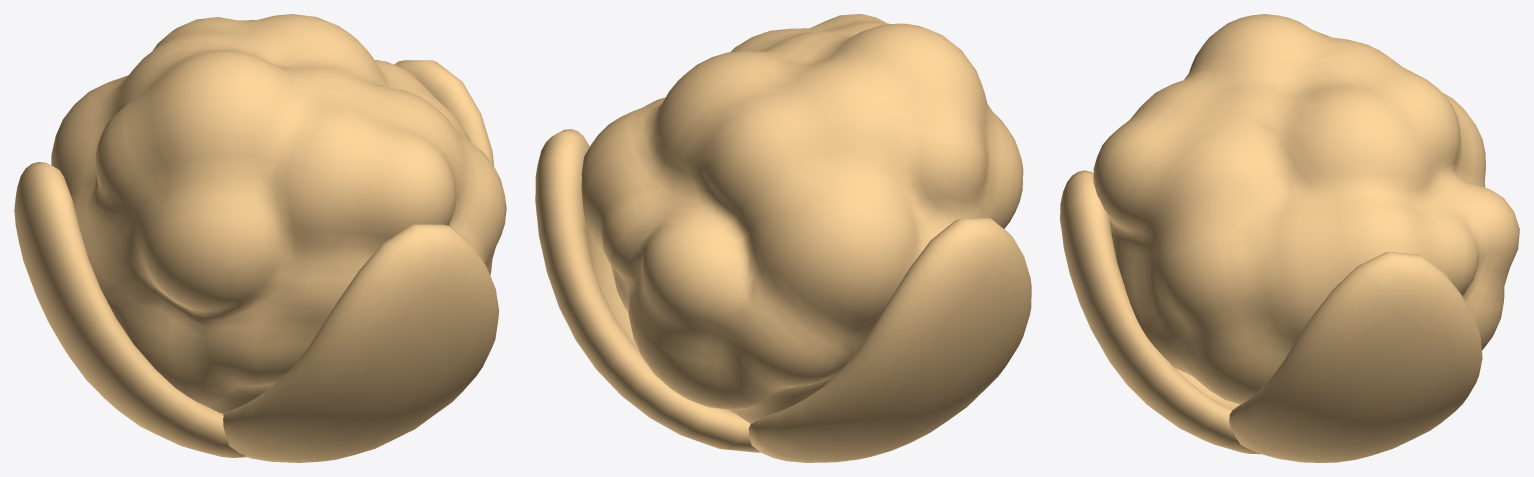
Rendered from SM_Ponpon_Cauliflower_002_NoMatId.fbx.
3 renders of one model, left to right at view 1: azimuth 30°, elevation 25°; view 2: azimuth 150°, elevation 25°; view 3: azimuth 270°, elevation 25°, orthographic. The views are drawn at different scales.
Parts seen in each view (by area): view 1: SM_Ponpon_Cauliflower001; view 2: SM_Ponpon_Cauliflower001; view 3: SM_Ponpon_Cauliflower001.
Boxes of the visible parts, bbox=[...] form: SM_Ponpon_Cauliflower001: bbox=[14, 14, 506, 462]; SM_Ponpon_Cauliflower001: bbox=[535, 14, 1031, 462]; SM_Ponpon_Cauliflower001: bbox=[1060, 14, 1519, 462].
Size of the model in its own units: 1.32 by 1.15 by 1.26.
